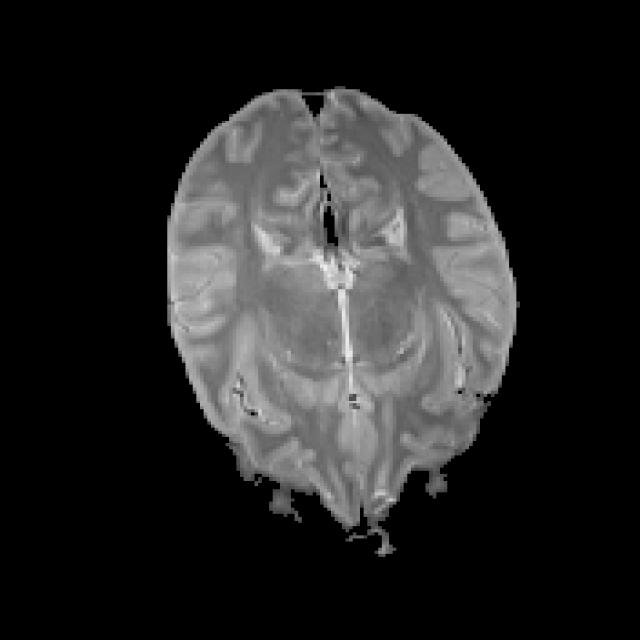parkinson: (164, 83, 520, 557)
